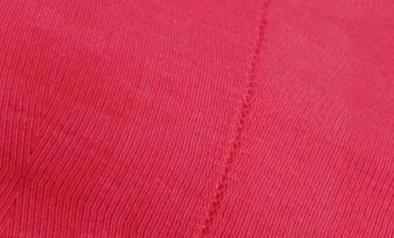slub: (200, 1, 273, 237)
